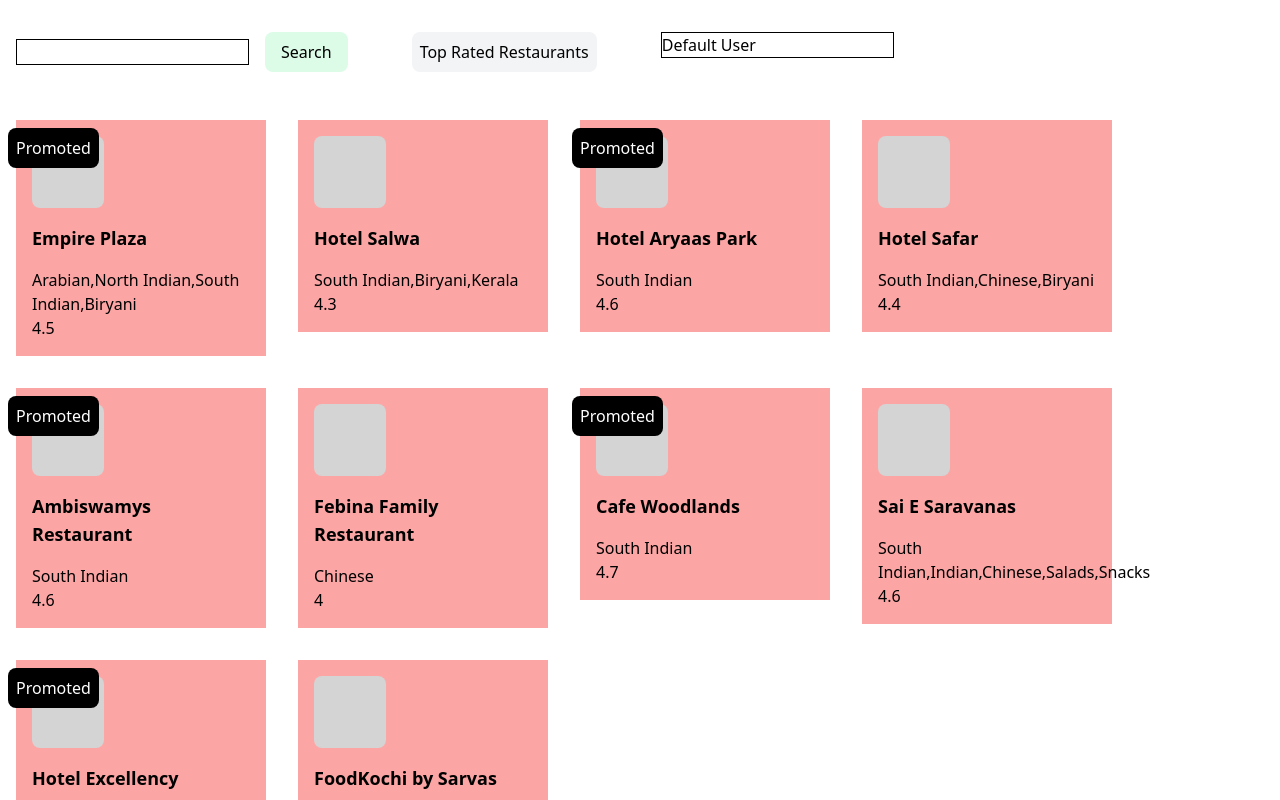
Test case: Should render page with Search
Type "Plaza" into the field with test id "searchInput" at (132, 52), box [16,39,249,65]
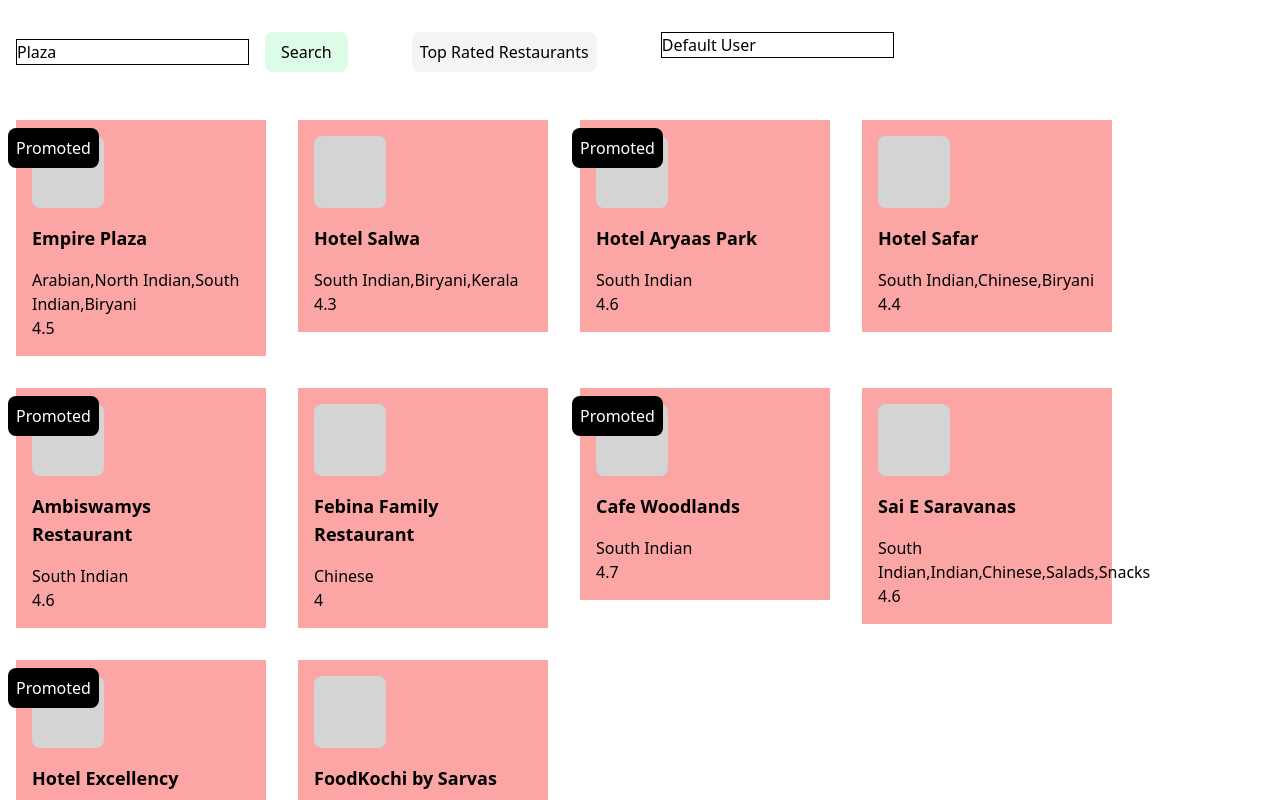
Click the button "Search" at (306, 52), box [265,32,348,72]
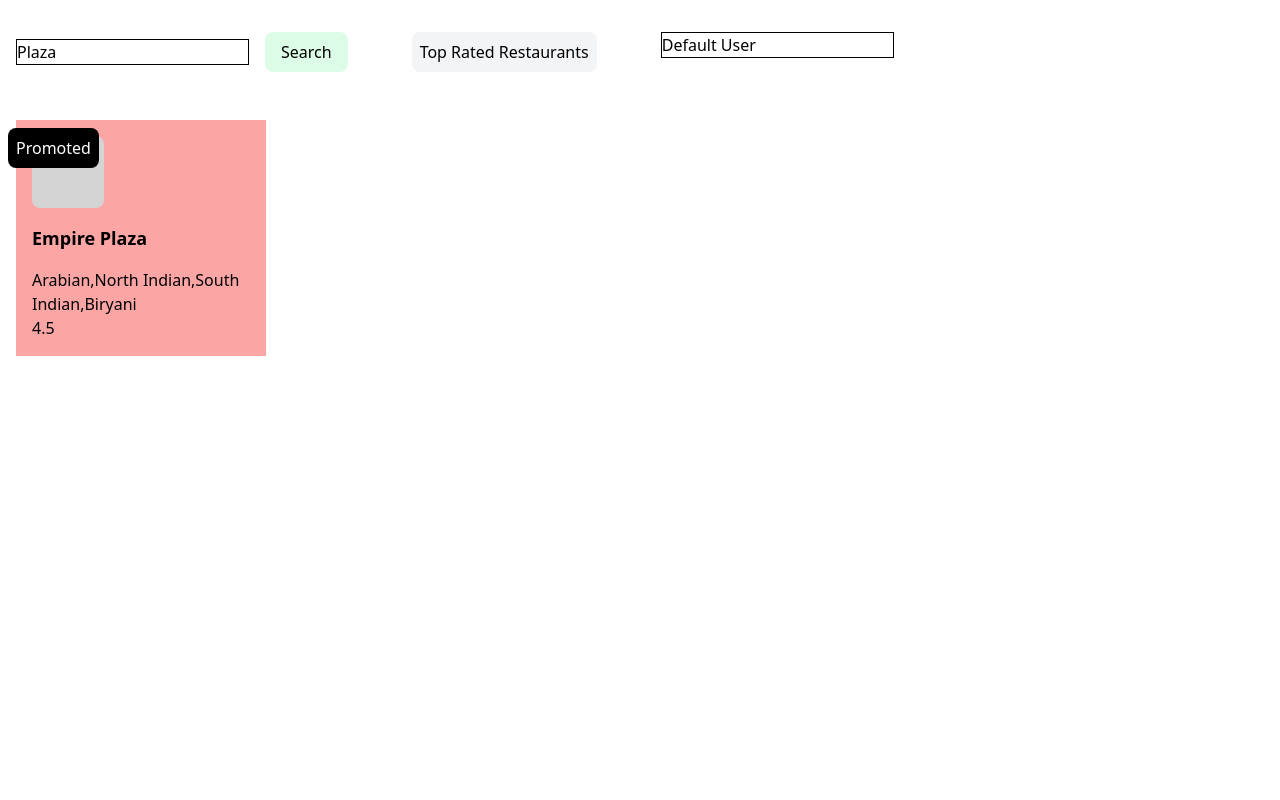
Now the number of elements with test id "resCards" is 1, box [16,120,266,356]
